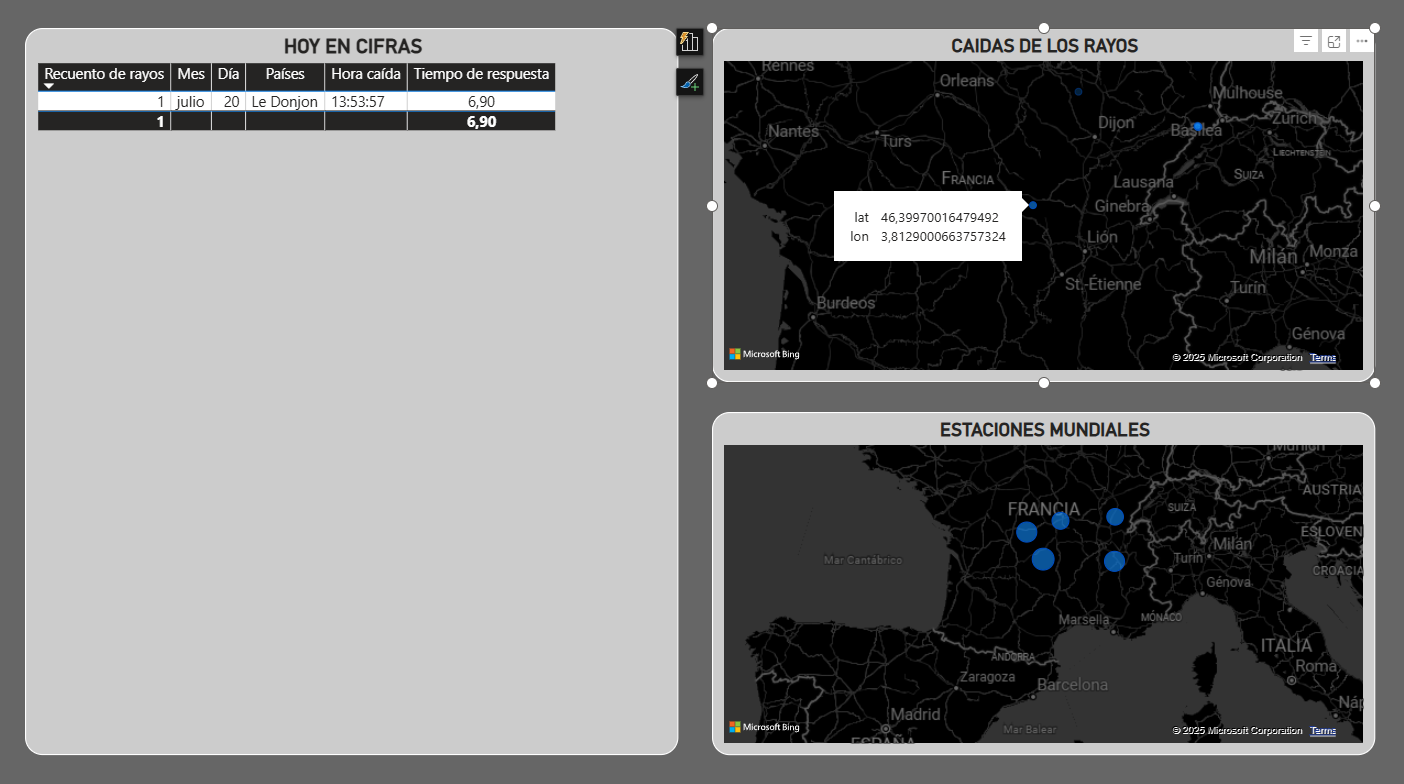

This screenshot's page, from the dashboard's own definition file:
{"tool":"powerbi","page":{"name":"Main","canvas":[1280,720],"ordinal":0},"visuals":[{"type":"tableEx","title":"HOY EN CIFRAS","fields":{"Values":["rayos.id","rayos.fecha.Variación.Jerarquía de fechas.Mes","rayos.fecha.Variación.Jerarquía de fechas.Día","rayos.pais","rayos.hora","Avg(rayos.delay)"]},"box":[24.4,26.7,594.4,661.1],"z":0},{"type":"map","title":"ESTACIONES MUNDIALES","fields":{"Y":["estaciones.lat"],"X":["estaciones.lon"],"Size":["Median(estaciones.alt)"]},"box":[648.9,375.6,603.3,312.2],"z":1000},{"type":"map","title":"CAIDAS DE LOS RAYOS","fields":{"Y":["rayos.lat"],"X":["rayos.lon"]},"box":[648.9,26.7,603.3,322.2],"z":2000}]}

Visuals, with their boxes on the page's 1280x720 design canvas (x1, y1, x2, y2). These are canvas units, not pixel positions in the 1404x784 screenshot, which may show the page scaled, cropped or inside an application window:
"HOY EN CIFRAS" tableEx: {"left": 24, "top": 27, "right": 619, "bottom": 688}
"ESTACIONES MUNDIALES" map: {"left": 649, "top": 376, "right": 1252, "bottom": 688}
"CAIDAS DE LOS RAYOS" map: {"left": 649, "top": 27, "right": 1252, "bottom": 349}
